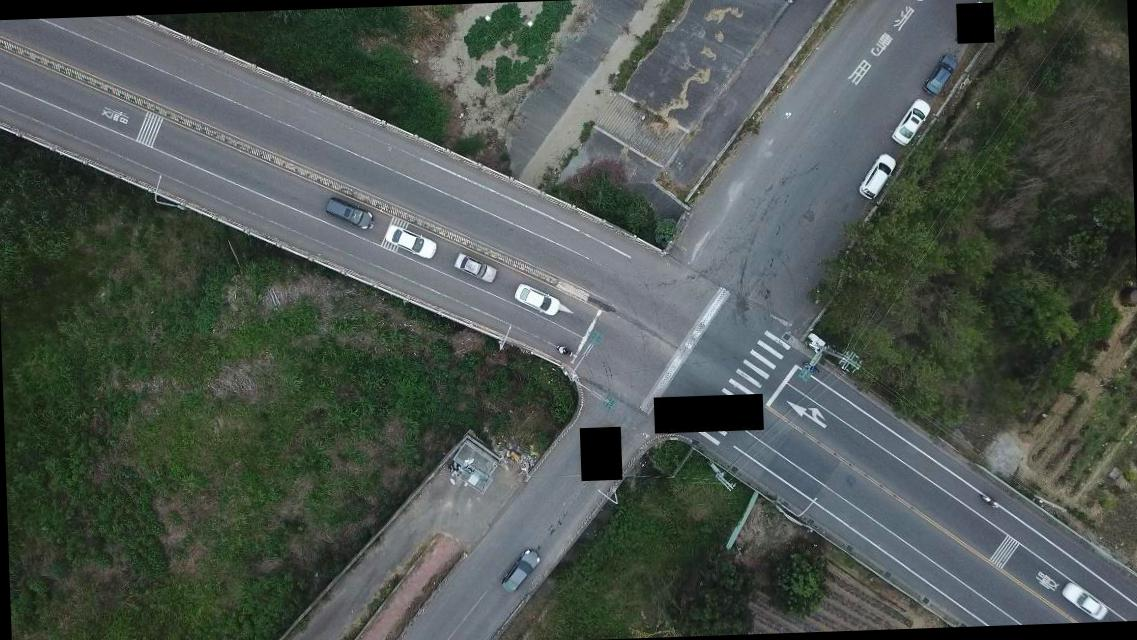vehicle: (382, 222, 438, 262), (888, 100, 932, 148), (1060, 579, 1108, 622), (496, 548, 540, 594), (324, 194, 373, 232), (515, 280, 562, 318), (452, 250, 500, 287), (858, 154, 898, 198), (923, 52, 958, 96)
